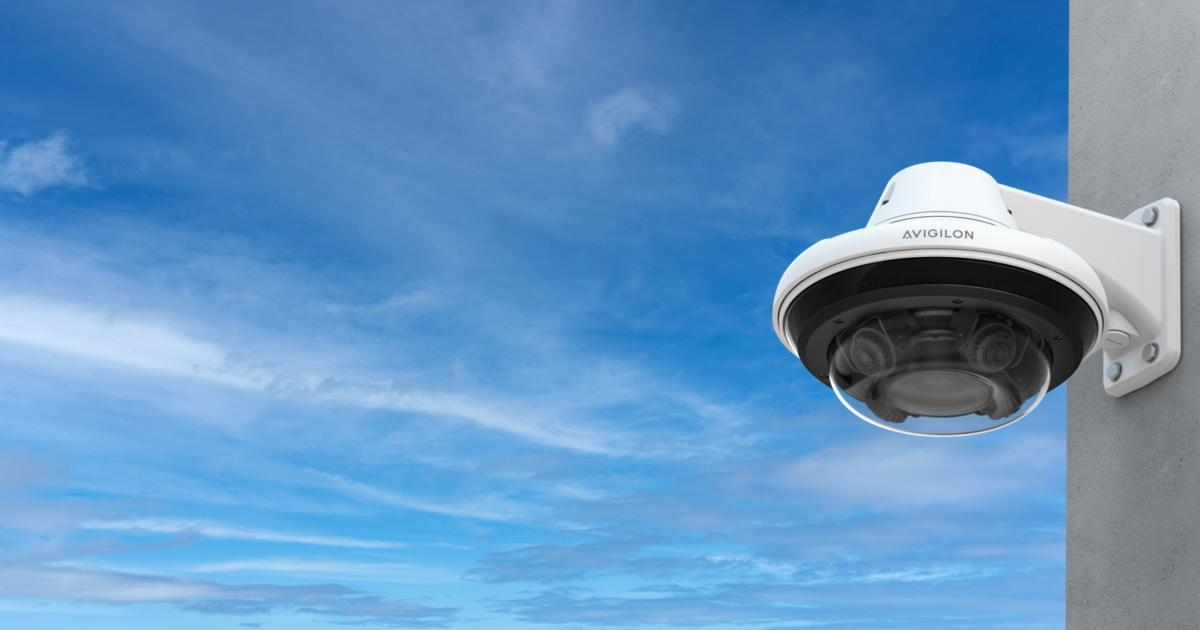360-Cam: (735, 161, 1133, 474)
